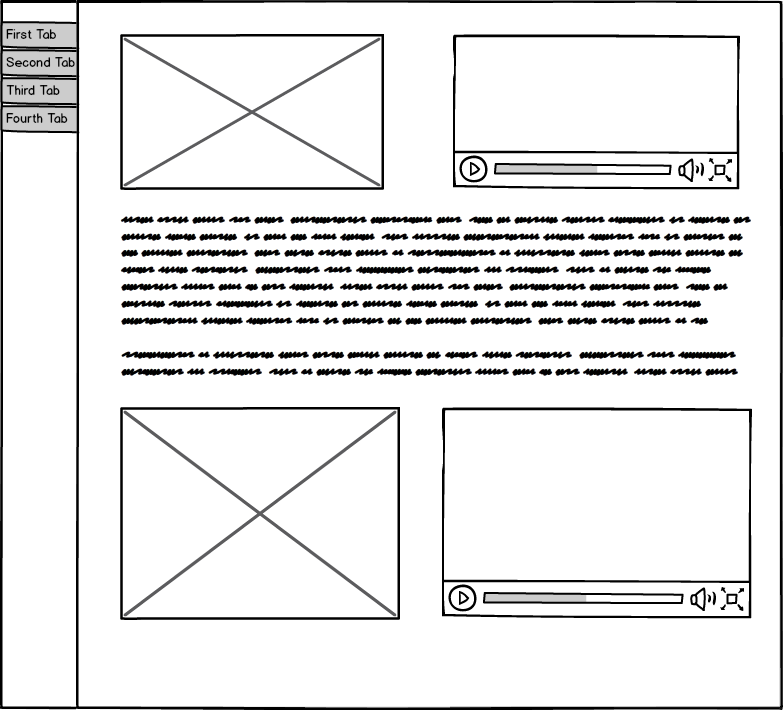image: (117, 403, 403, 624), (118, 30, 390, 195)
p: (118, 212, 754, 382)
sidebar: (1, 14, 87, 148)
video: (436, 402, 758, 624), (446, 28, 749, 196)
